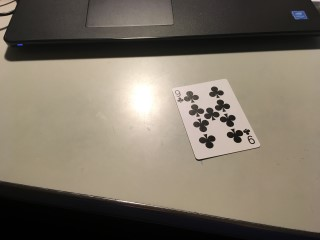NineOfClubs: (172, 78, 261, 160)
